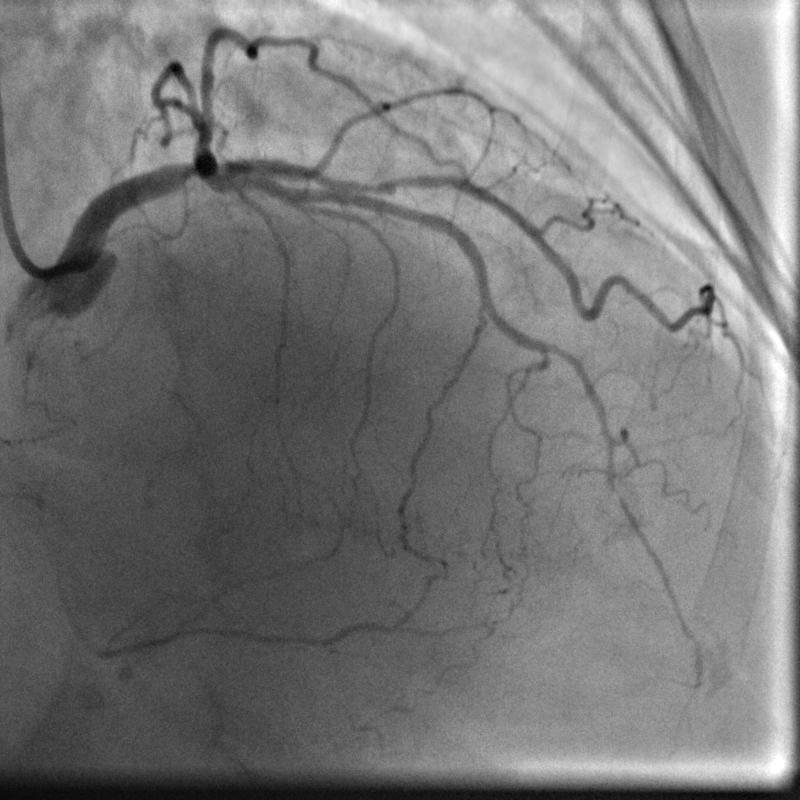Stenosis: (349, 169, 434, 202)
